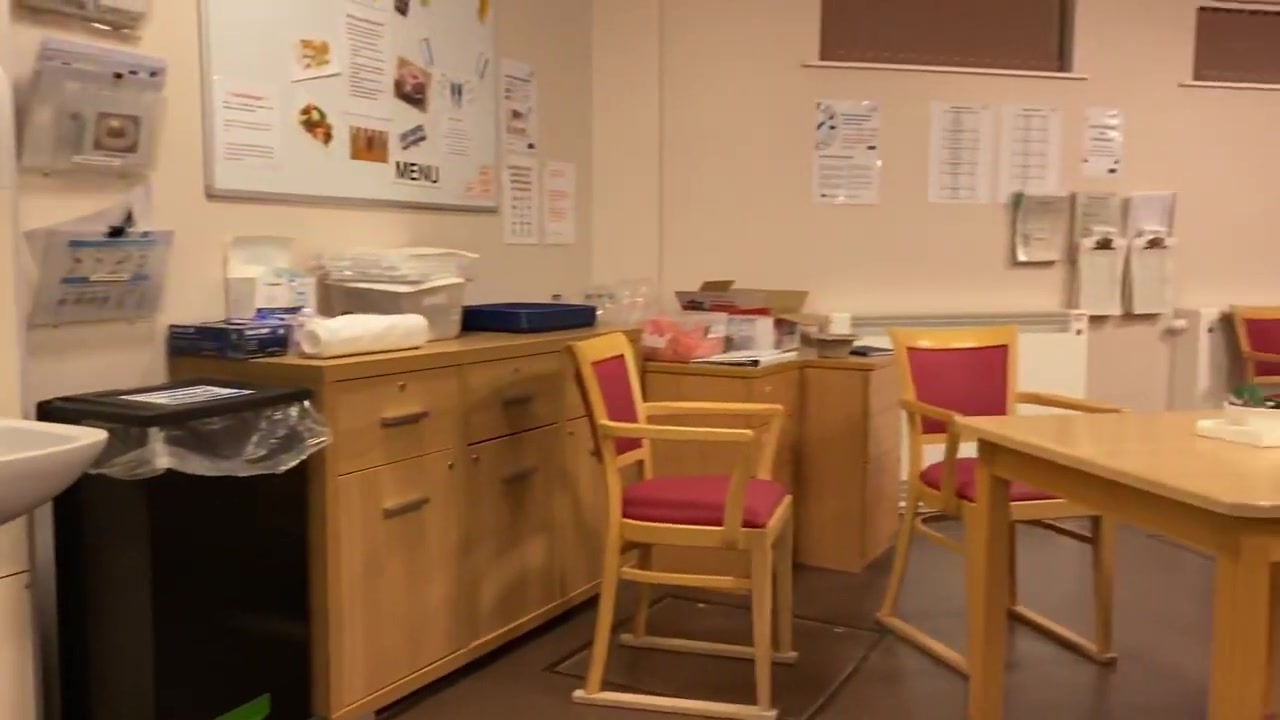chair: (568, 331, 801, 720), (874, 325, 1122, 679), (1222, 303, 1280, 402)
counter: (165, 308, 641, 720), (636, 341, 902, 574)
handle: (381, 491, 430, 518), (380, 404, 429, 428), (497, 462, 539, 484), (502, 387, 533, 404)
sink: (1, 416, 108, 527)
table: (950, 406, 1280, 720)
waste_bin: (34, 379, 314, 720)
